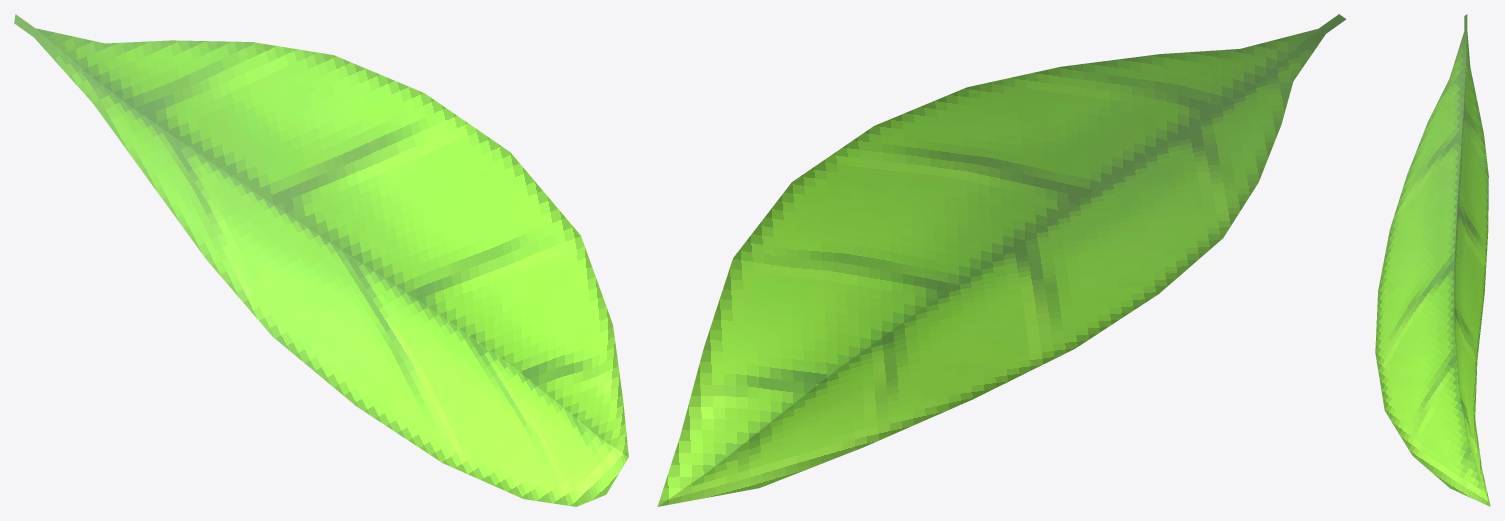
The model's file is SkillObj_Perform_Kazuha_Leaf_Model.glb.
The picture shows the model from 3 angles, left to right: view 1: azimuth 30°, elevation 25°; view 2: azimuth 150°, elevation 25°; view 3: azimuth 270°, elevation 25°; orthographic projection. The views are drawn at different scales.
Parts seen in each view (by area): view 1: SkillObj_Perform_Kazuha_Leaf_Model; view 2: SkillObj_Perform_Kazuha_Leaf_Model; view 3: SkillObj_Perform_Kazuha_Leaf_Model.
Boxes of the visible parts, box(x1,y1,x2,y2) form: SkillObj_Perform_Kazuha_Leaf_Model: box(14, 14, 628, 506); SkillObj_Perform_Kazuha_Leaf_Model: box(657, 14, 1346, 506); SkillObj_Perform_Kazuha_Leaf_Model: box(1375, 14, 1490, 506).
Size of the model in its own units: 0.0782 by 0.0718 by 0.0229.
Materials: 1 (1 with a texture image).
